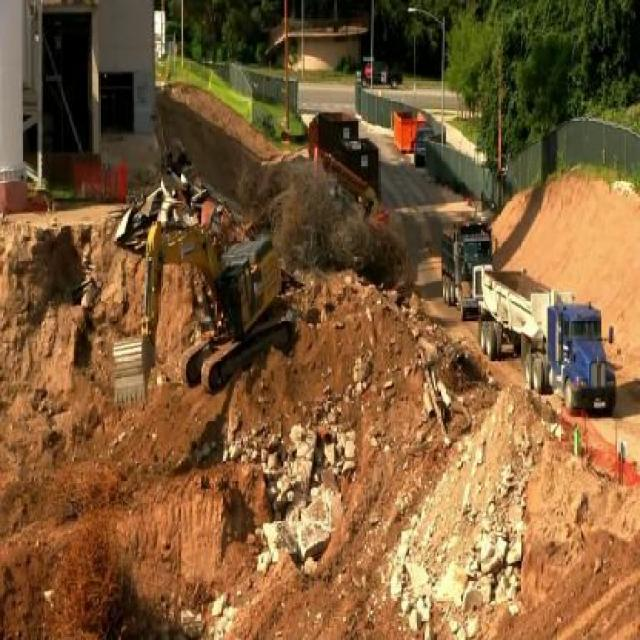Dump Truck: (478, 264, 617, 418), (438, 217, 497, 323)
Excavator: (111, 213, 295, 415)
